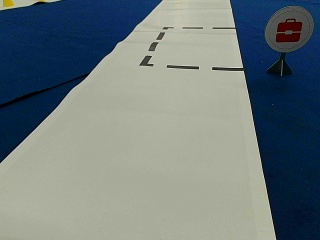company: (265, 6, 314, 50)
